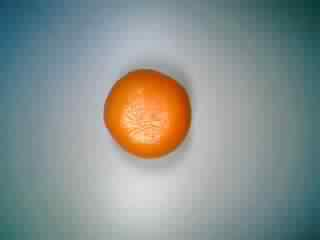orange: (99, 59, 196, 157)
